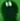black: (0, 0, 20, 21)
